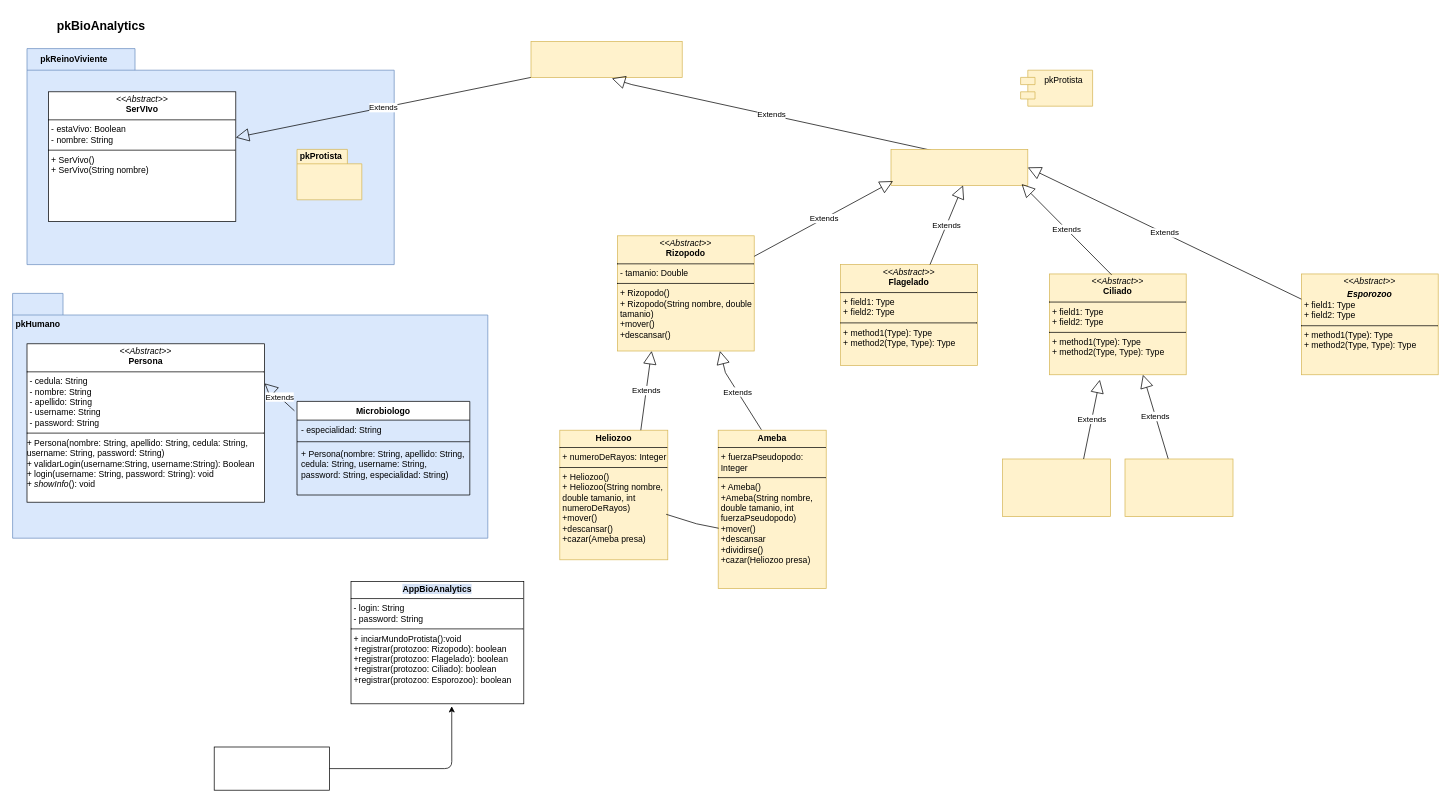
Image size: 1451x803. Some labels were removed from this diagram. The shapes that lost their labels are listed below. From the top down, each one's centre as x and y in pixels, then its label:
At point 606,59: "<<Abstract>> ReinoProtista".
At point 959,167: "<<Abstract>> Protozoo".
At point 1056,487: "Dinidium + field: Type + method(): Type".
At point 1178,487: "Paramecium + field: Type + method(): Type".
At point 271,768: "App + main(String[]):void".
